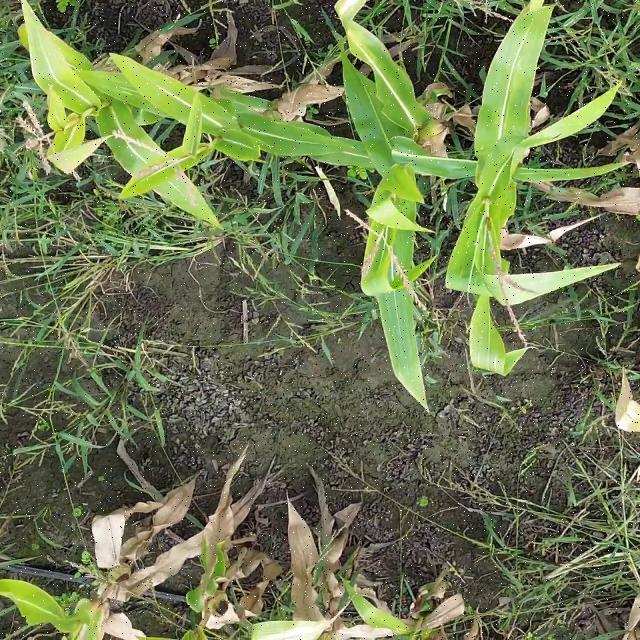gray-leaf-spot: (103, 71, 178, 119)
southern-leaf-blight: (335, 102, 413, 174)
